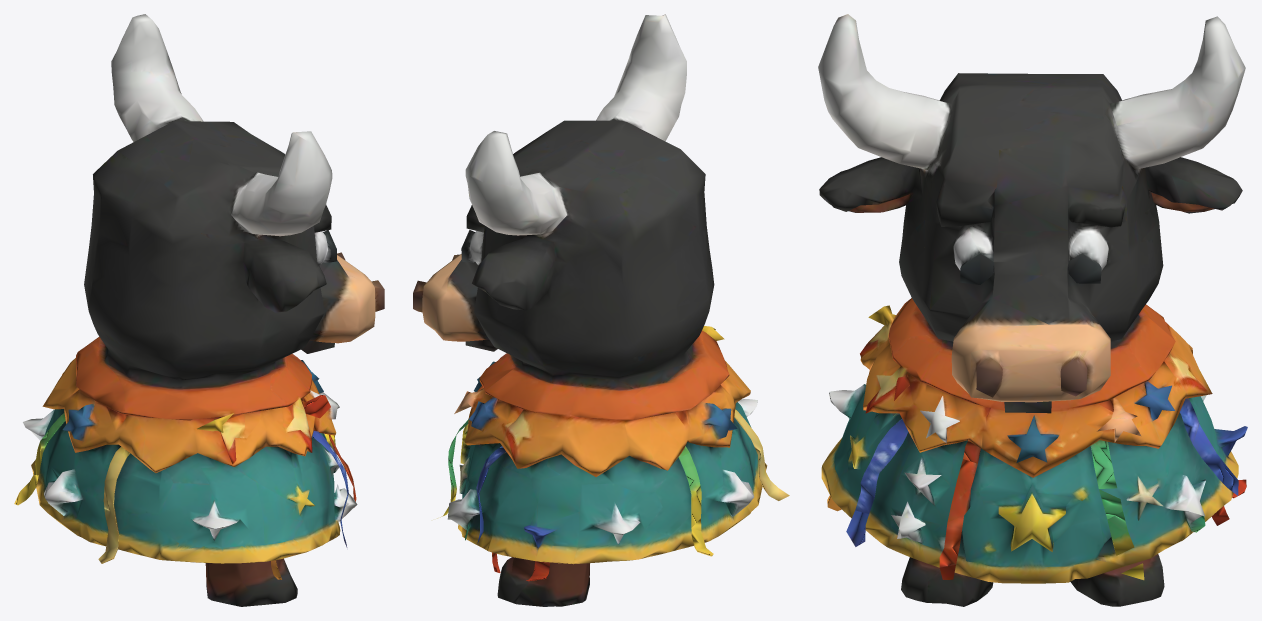
File: boi.glb
3 renders of one model, left to right at view 1: azimuth 30°, elevation 25°; view 2: azimuth 150°, elevation 25°; view 3: azimuth 270°, elevation 25°, orthographic. The views are drawn at different scales.
Visible parts, largest first — view 1: tripo_node_f5629ad3-fc2b-432a-aae8-ddbe6b524cc7; view 2: tripo_node_f5629ad3-fc2b-432a-aae8-ddbe6b524cc7; view 3: tripo_node_f5629ad3-fc2b-432a-aae8-ddbe6b524cc7.
Part boxes in pixels (x1,y1,x2,y2): tripo_node_f5629ad3-fc2b-432a-aae8-ddbe6b524cc7: (14, 14, 384, 606); tripo_node_f5629ad3-fc2b-432a-aae8-ddbe6b524cc7: (413, 14, 789, 606); tripo_node_f5629ad3-fc2b-432a-aae8-ddbe6b524cc7: (818, 14, 1247, 606).
Size of the model in its own units: 0.675 by 1 by 0.6867.
1 material, 1 textured.
